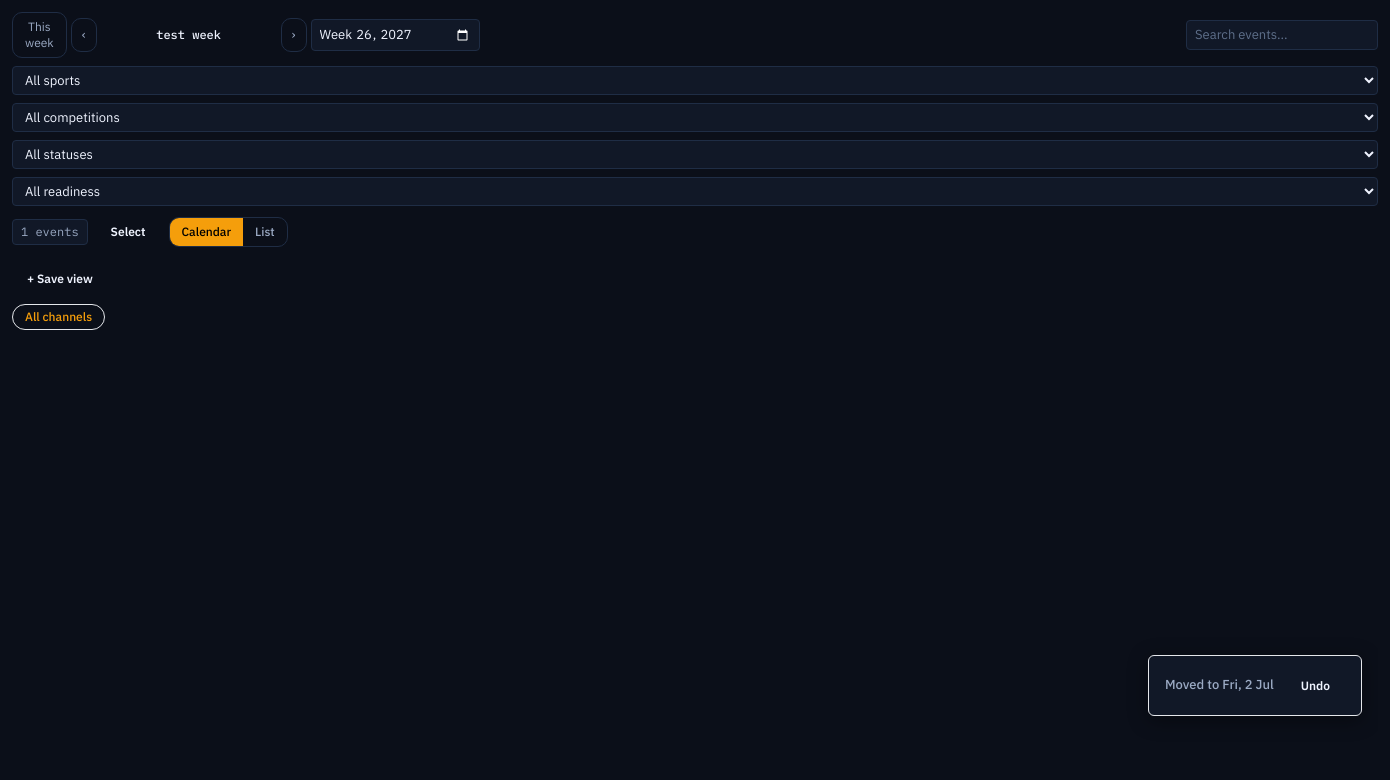
Test: PlannerView undo — horizontal drag (date move) › clicking Undo restores the previous date via the API and dismisses the bar
Click the button "Undo" at [1315, 685], box [1286,668,1345,703]
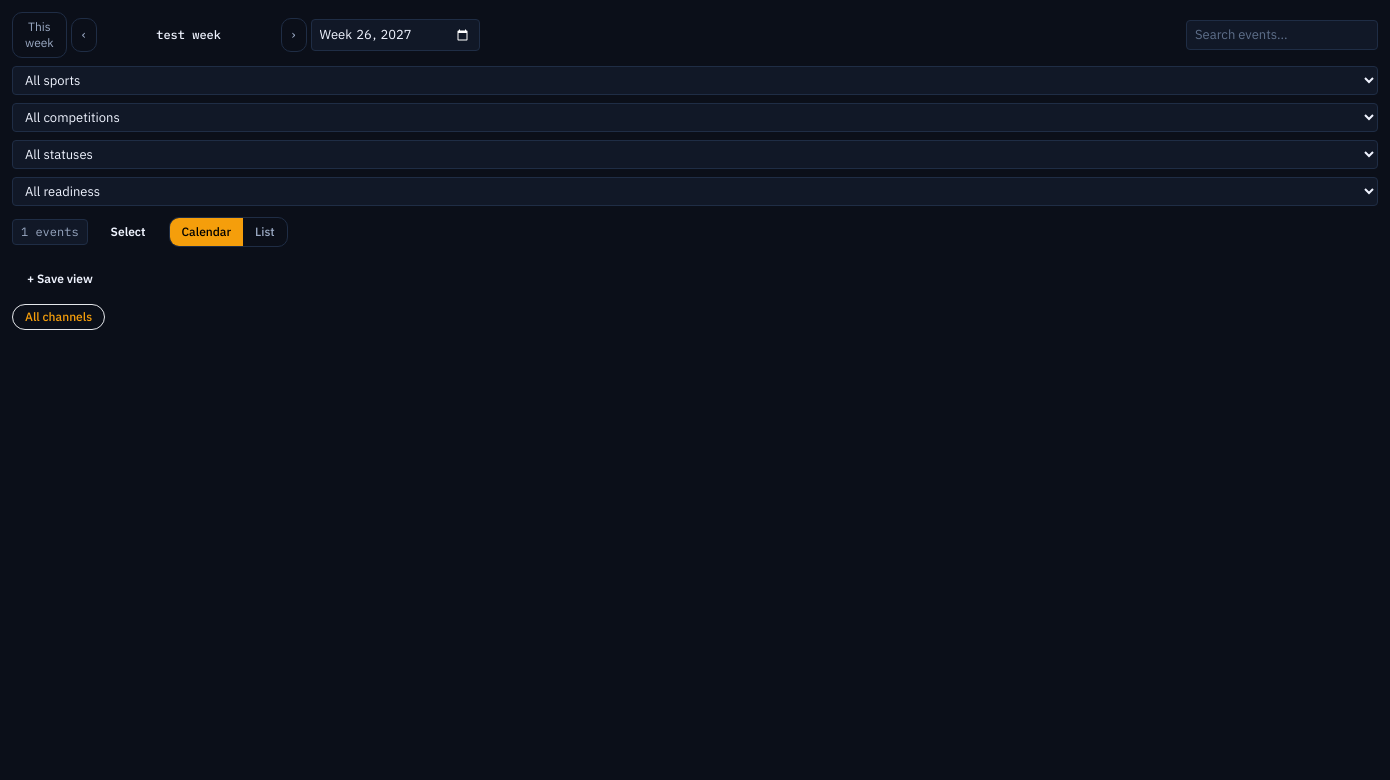
Now the button "Undo" is gone
